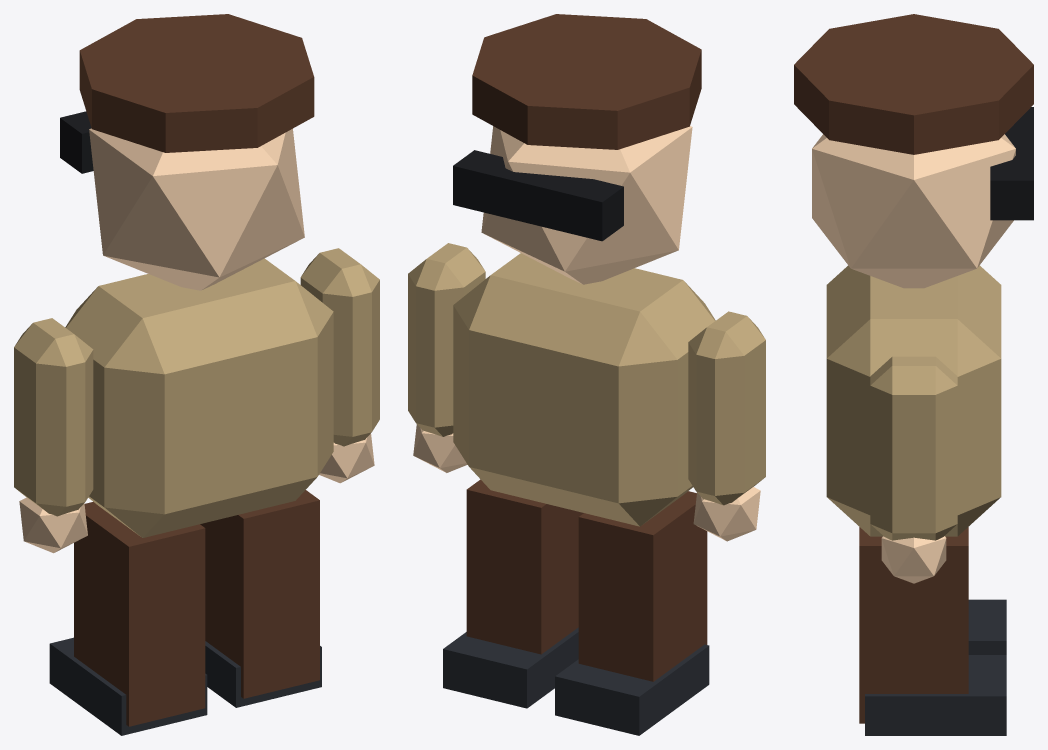
Rendered from passenger.glb.
3 renders of one model, left to right at view 1: azimuth 30°, elevation 25°; view 2: azimuth 150°, elevation 25°; view 3: azimuth 270°, elevation 25°, orthographic. The views are drawn at different scales.
Visible parts, largest first — view 1: Torso, Leg_L, Leg_R, Arm_L, Arm_R; view 2: Torso, Leg_L, Leg_R, Arm_L, Arm_R; view 3: Torso, Leg_R, Arm_R, Leg_L.
Part boxes in pixels (<box>): Torso: <box>60,14,333,537</box>; Leg_L: <box>49,502,207,735</box>; Leg_R: <box>200,490,321,707</box>; Arm_L: <box>14,318,93,553</box>; Arm_R: <box>300,248,379,483</box>; Torso: <box>453,14,715,526</box>; Leg_L: <box>555,491,709,735</box>; Leg_R: <box>443,479,583,708</box>; Arm_L: <box>688,311,765,541</box>; Arm_R: <box>408,243,485,472</box>; Torso: <box>794,14,1033,536</box>; Leg_R: <box>859,527,1006,735</box>; Arm_R: <box>870,356,957,583</box>; Leg_L: <box>968,599,1006,654</box>.
Bounding box in the file's own units: 0.3626 × 0.63 × 0.22.
Materials: 1 (1 with a texture image).
